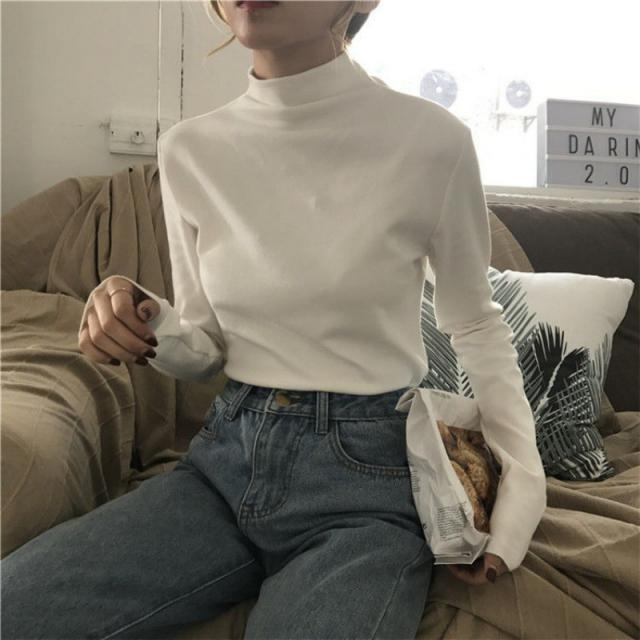Shirt: (81, 56, 557, 579)
